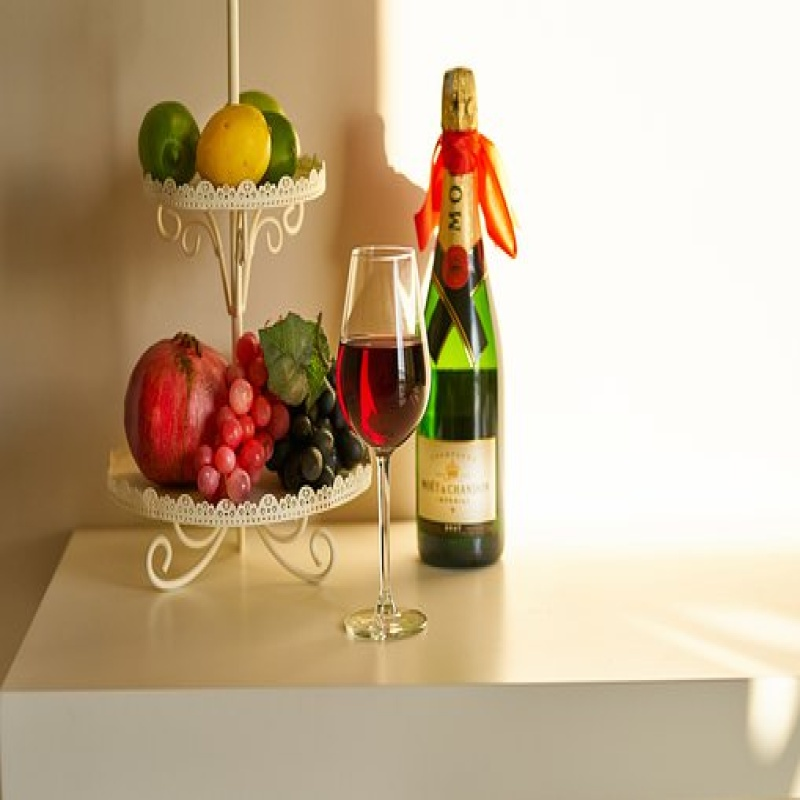wine: (419, 69, 510, 574)
